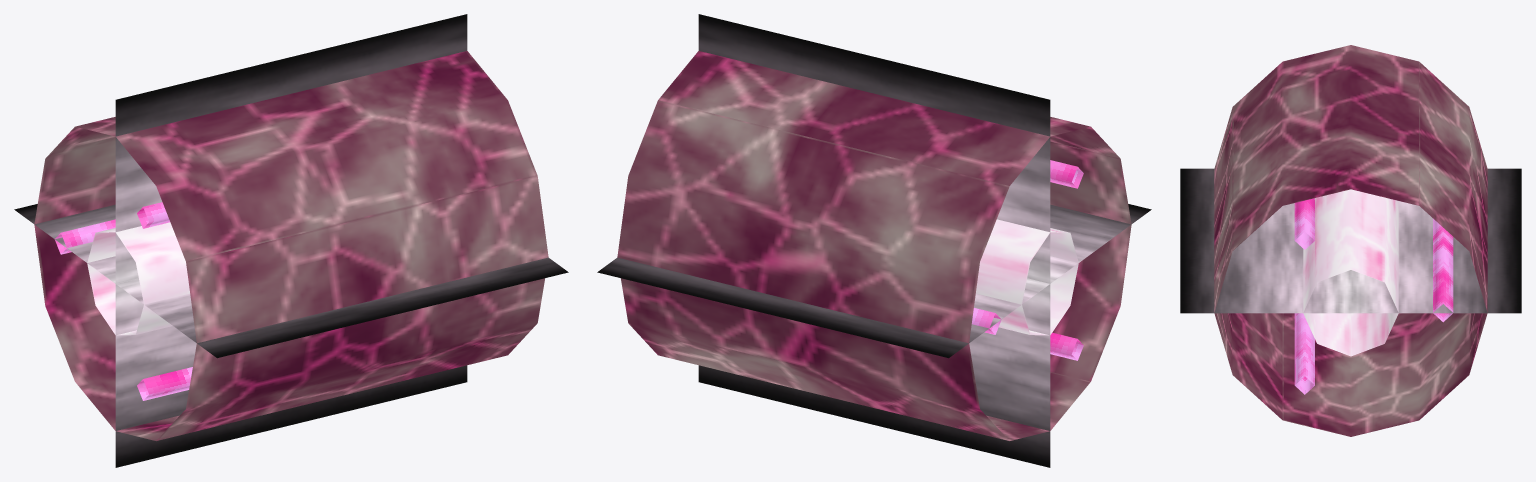
The model's file is laser_reflect_segment.glb.
The picture shows the model from 3 angles, left to right: view 1: azimuth 30°, elevation 25°; view 2: azimuth 150°, elevation 25°; view 3: azimuth 270°, elevation 25°; orthographic projection. The views are drawn at different scales.
Visible parts, largest first — view 1: laser_shell, laser_ribbon, laser_core, laser_filaments; view 2: laser_shell, laser_ribbon, laser_core, laser_filaments; view 3: laser_shell, laser_ribbon, laser_core, laser_filaments.
Part boxes in pixels (bbox=[...]): laser_shell: bbox=[34, 51, 548, 440]; laser_ribbon: bbox=[14, 14, 568, 467]; laser_core: bbox=[87, 222, 189, 335]; laser_filaments: bbox=[54, 202, 192, 400]; laser_shell: bbox=[617, 51, 1131, 440]; laser_ribbon: bbox=[597, 14, 1151, 467]; laser_core: bbox=[976, 219, 1078, 335]; laser_filaments: bbox=[971, 160, 1083, 360]; laser_shell: bbox=[1214, 45, 1487, 436]; laser_ribbon: bbox=[1180, 168, 1521, 313]; laser_core: bbox=[1303, 189, 1398, 356]; laser_filaments: bbox=[1294, 198, 1453, 394].
Size of the model in its own units: 1 by 1 by 1.
4 materials, 4 textured.
